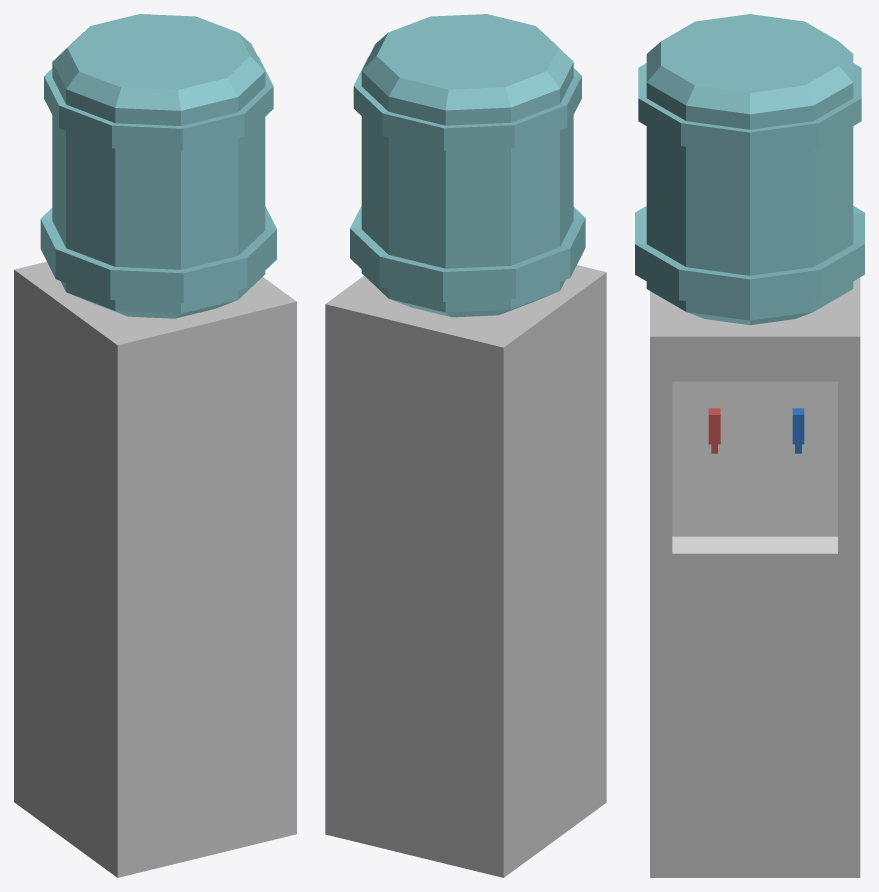
Rendered from water_despencer.fbx.
The picture shows the model from 3 angles, left to right: view 1: azimuth 30°, elevation 25°; view 2: azimuth 150°, elevation 25°; view 3: azimuth 270°, elevation 25°; orthographic projection. The views are drawn at different scales.
Parts seen in each view (by area): view 1: water_despencer_9, Cylinder_024_8; view 2: water_despencer_9, Cylinder_024_8; view 3: water_despencer_9, Cylinder_024_8.
Part boxes in pixels (box(x1,y1,x2,y2)): water_despencer_9: box(14, 261, 296, 877); Cylinder_024_8: box(40, 14, 276, 318); water_despencer_9: box(325, 265, 606, 877); Cylinder_024_8: box(350, 14, 585, 317); water_despencer_9: box(650, 277, 860, 877); Cylinder_024_8: box(635, 14, 864, 325).
Bounding box in the file's own units: 54.08 × 193 × 51.43.
